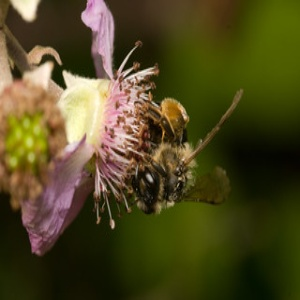bee: (129, 86, 254, 224)
